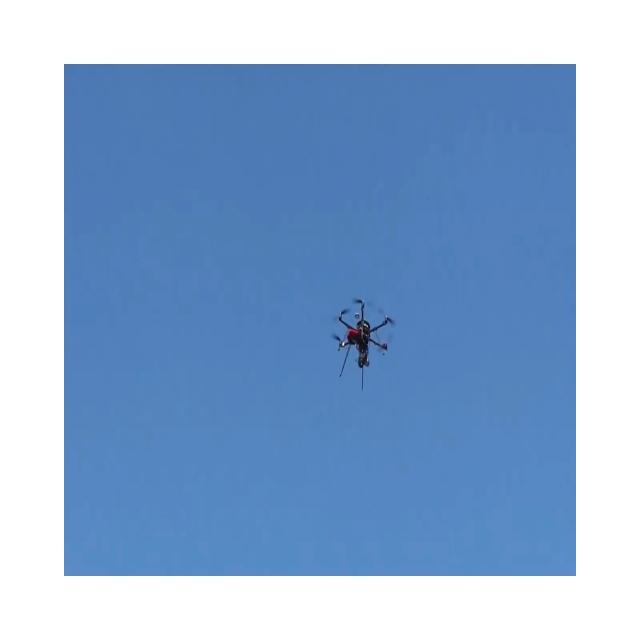drone: (332, 298, 395, 391)
